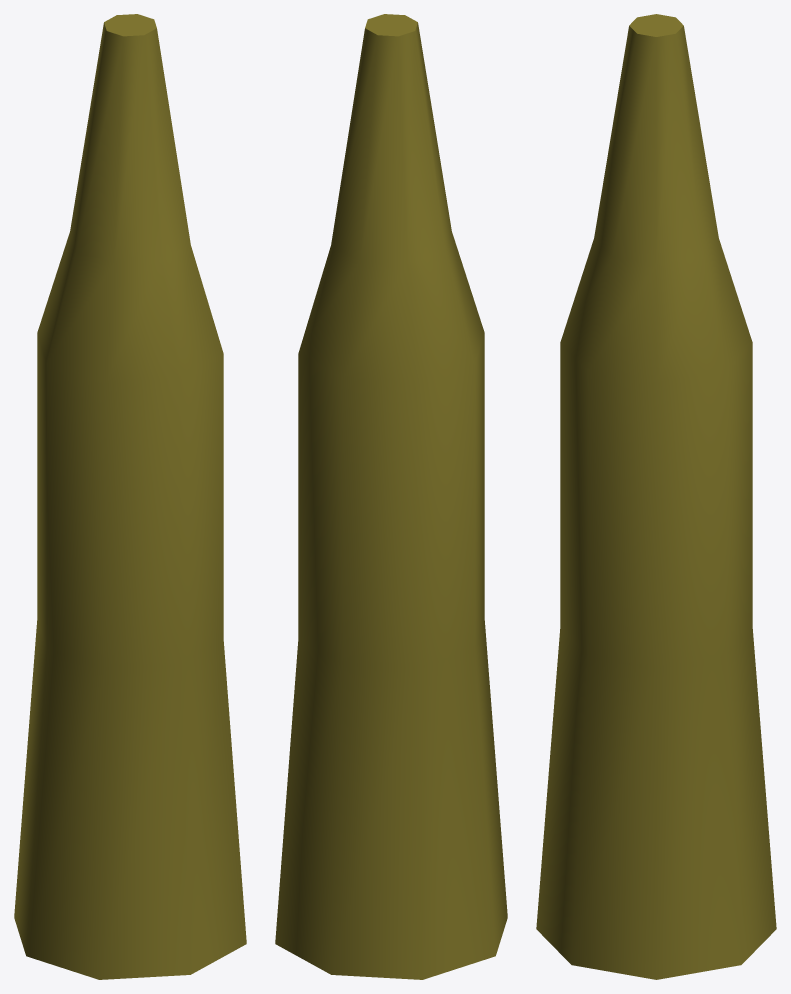
Rendered from Bullet.obj.
3 views of the same model, side by side, from view 1: azimuth 30°, elevation 25°; view 2: azimuth 150°, elevation 25°; view 3: azimuth 270°, elevation 25° (orthographic).
Parts seen in each view (by area): view 1: Bullet; view 2: Bullet; view 3: Bullet.
Part boxes in pixels (x1,y1,x2,y2): Bullet: (14, 14, 246, 979); Bullet: (275, 14, 507, 979); Bullet: (536, 14, 776, 979).
Size of the model in its own units: 0.437 by 1.81 by 0.437.
